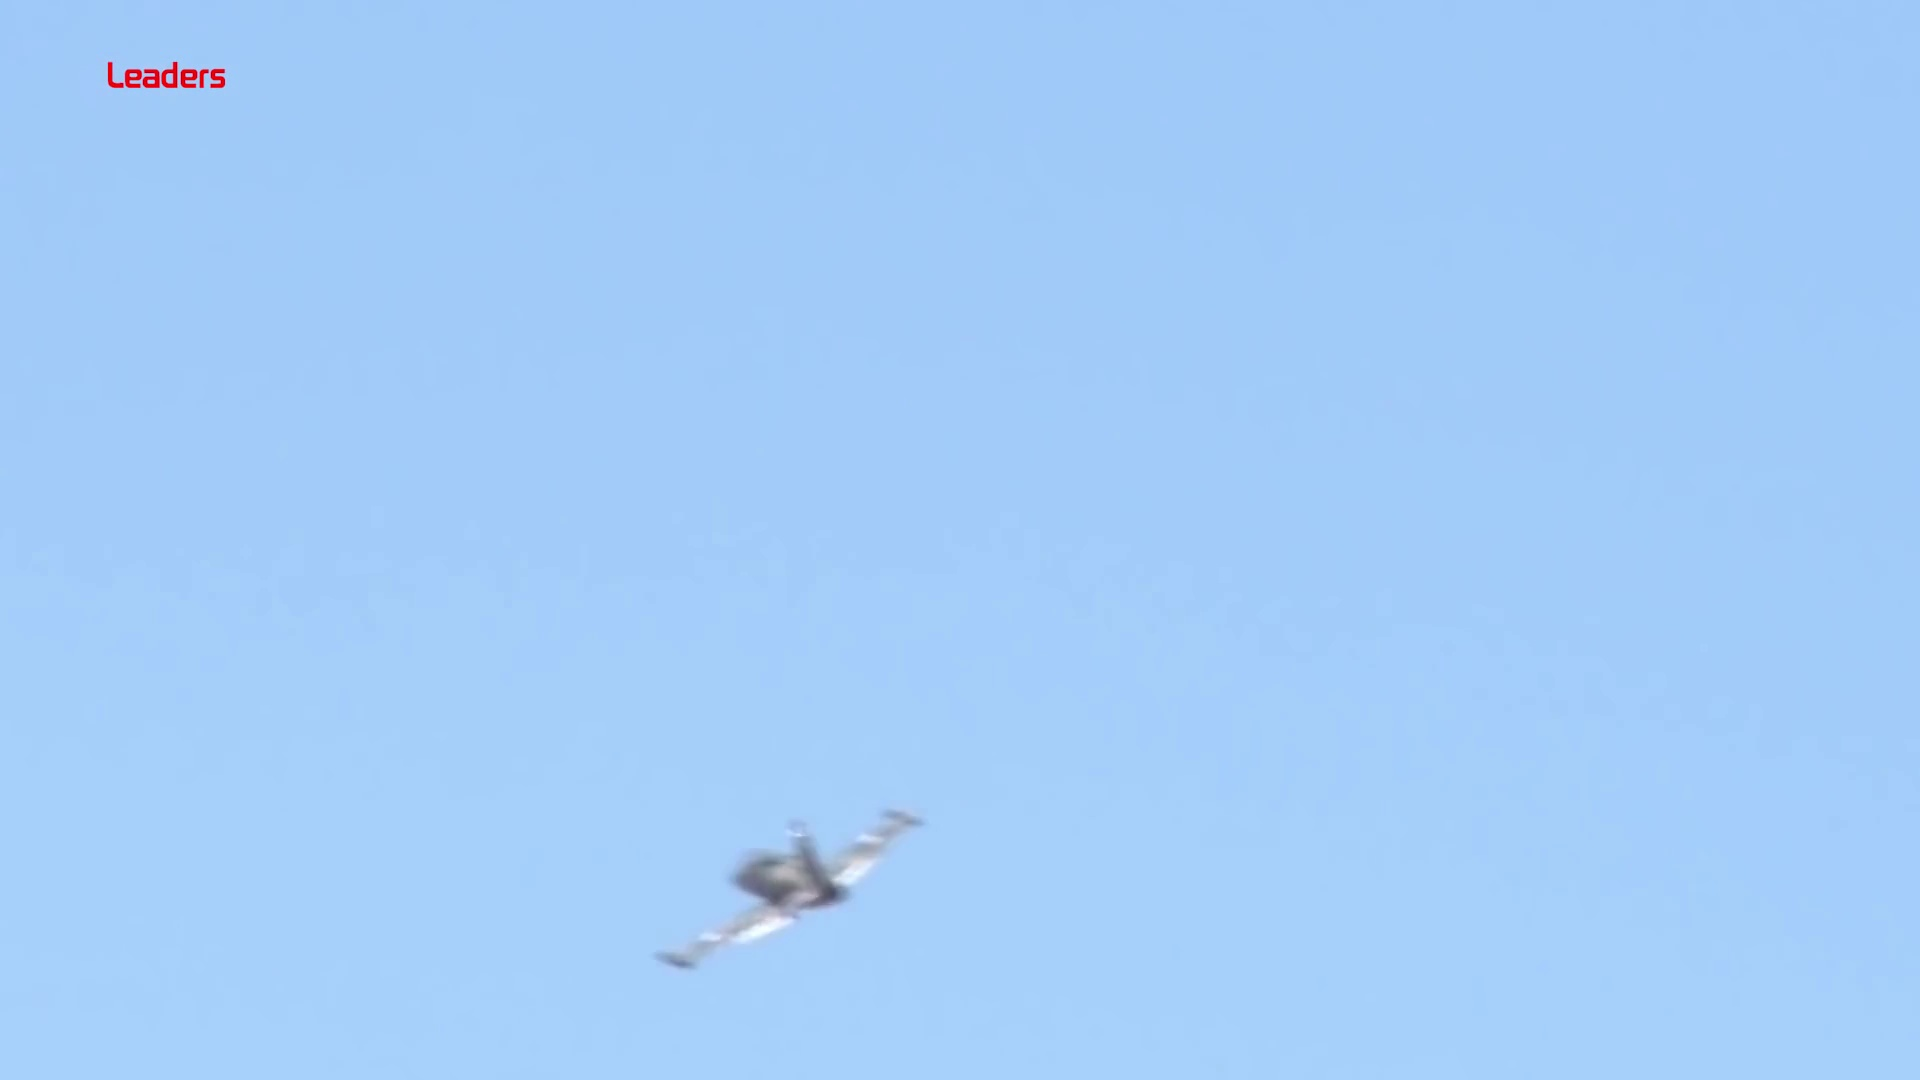Airplane: (654, 803, 924, 978)
